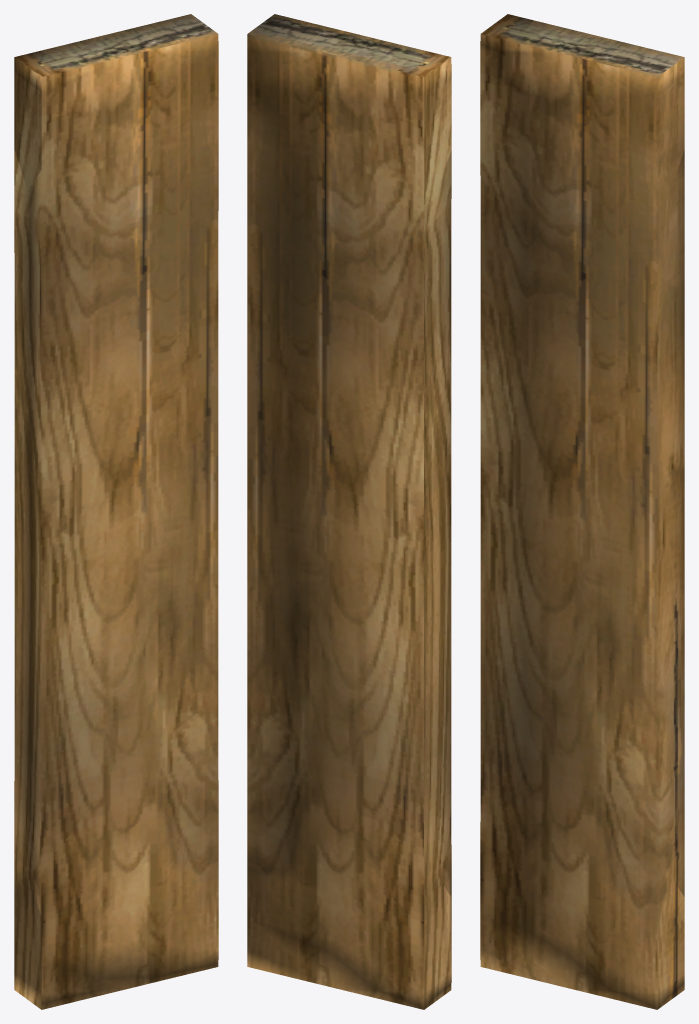
File: plank01.obj
3 views of the same model, side by side, from view 1: azimuth 30°, elevation 25°; view 2: azimuth 150°, elevation 25°; view 3: azimuth 330°, elevation 25° (orthographic).
Visible parts, largest first — view 1: plank01; view 2: plank01; view 3: plank01.
Boxes of the visible parts, bbox=[...] form: plank01: bbox=[14, 14, 218, 1009]; plank01: bbox=[247, 14, 451, 1009]; plank01: bbox=[480, 14, 684, 1009].
Size of the model in its own units: 37.06 by 187 by 9.96.
Materials: 1 (1 with a texture image).
